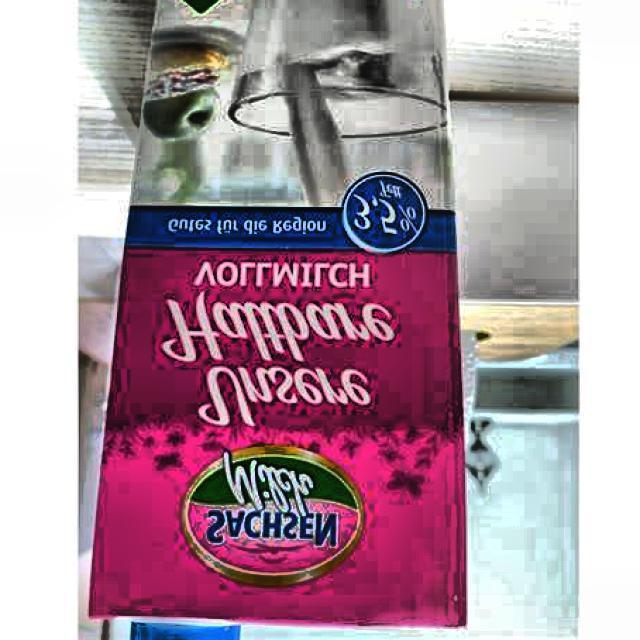cardboard: (84, 0, 468, 632)
